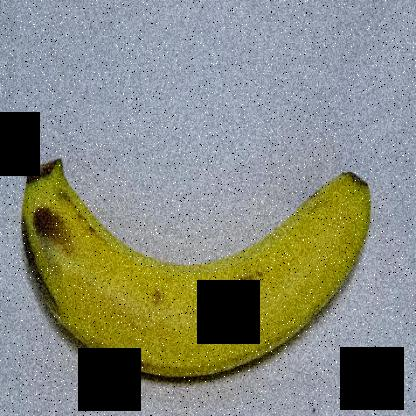freshripe: (1, 142, 380, 387)
